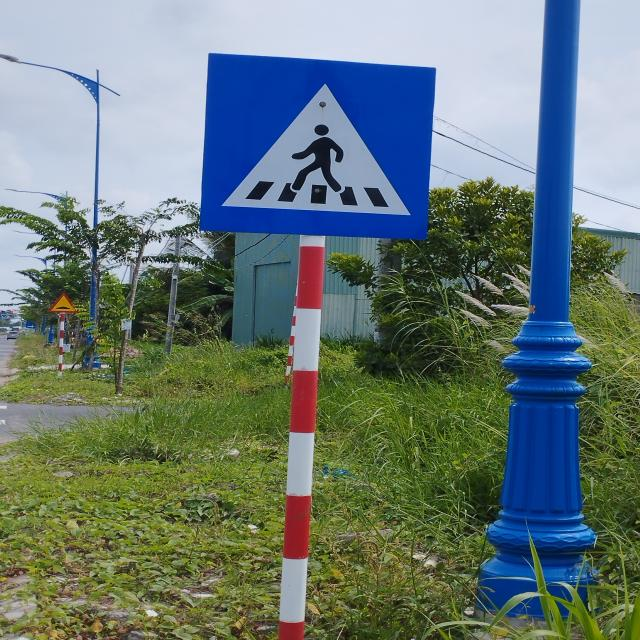Giao_Nhau_Duong_Uu_Tien: (200, 53, 438, 239)
